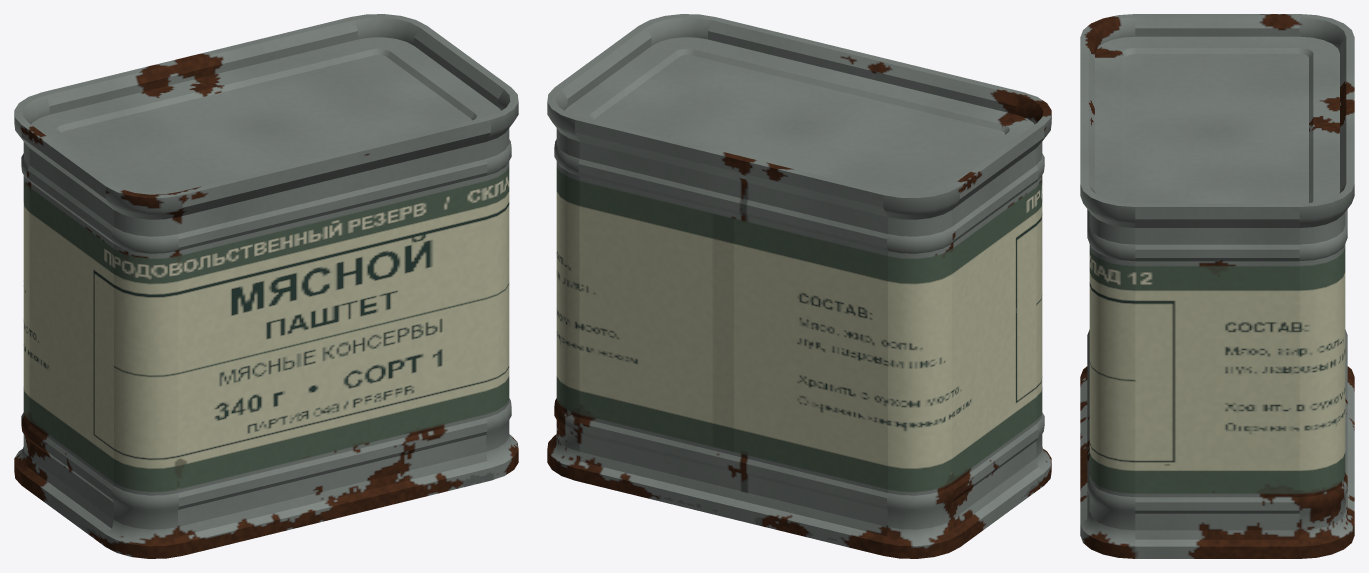
The model's file is canned_meat_rect.glb.
3 renders of one model, left to right at view 1: azimuth 30°, elevation 25°; view 2: azimuth 150°, elevation 25°; view 3: azimuth 270°, elevation 25°, orthographic. The views are drawn at different scales.
Visible parts, largest first — view 1: canned_meat_rect_Mesh; view 2: canned_meat_rect_Mesh; view 3: canned_meat_rect_Mesh.
Part boxes in pixels (x1,y1,x2,y2): canned_meat_rect_Mesh: (14, 14, 518, 558); canned_meat_rect_Mesh: (547, 14, 1051, 558); canned_meat_rect_Mesh: (1080, 14, 1354, 558).
Size of what is drawn, in the model's own units: 0.1 by 0.085 by 0.06.
Materials: 1 (1 with a texture image).
